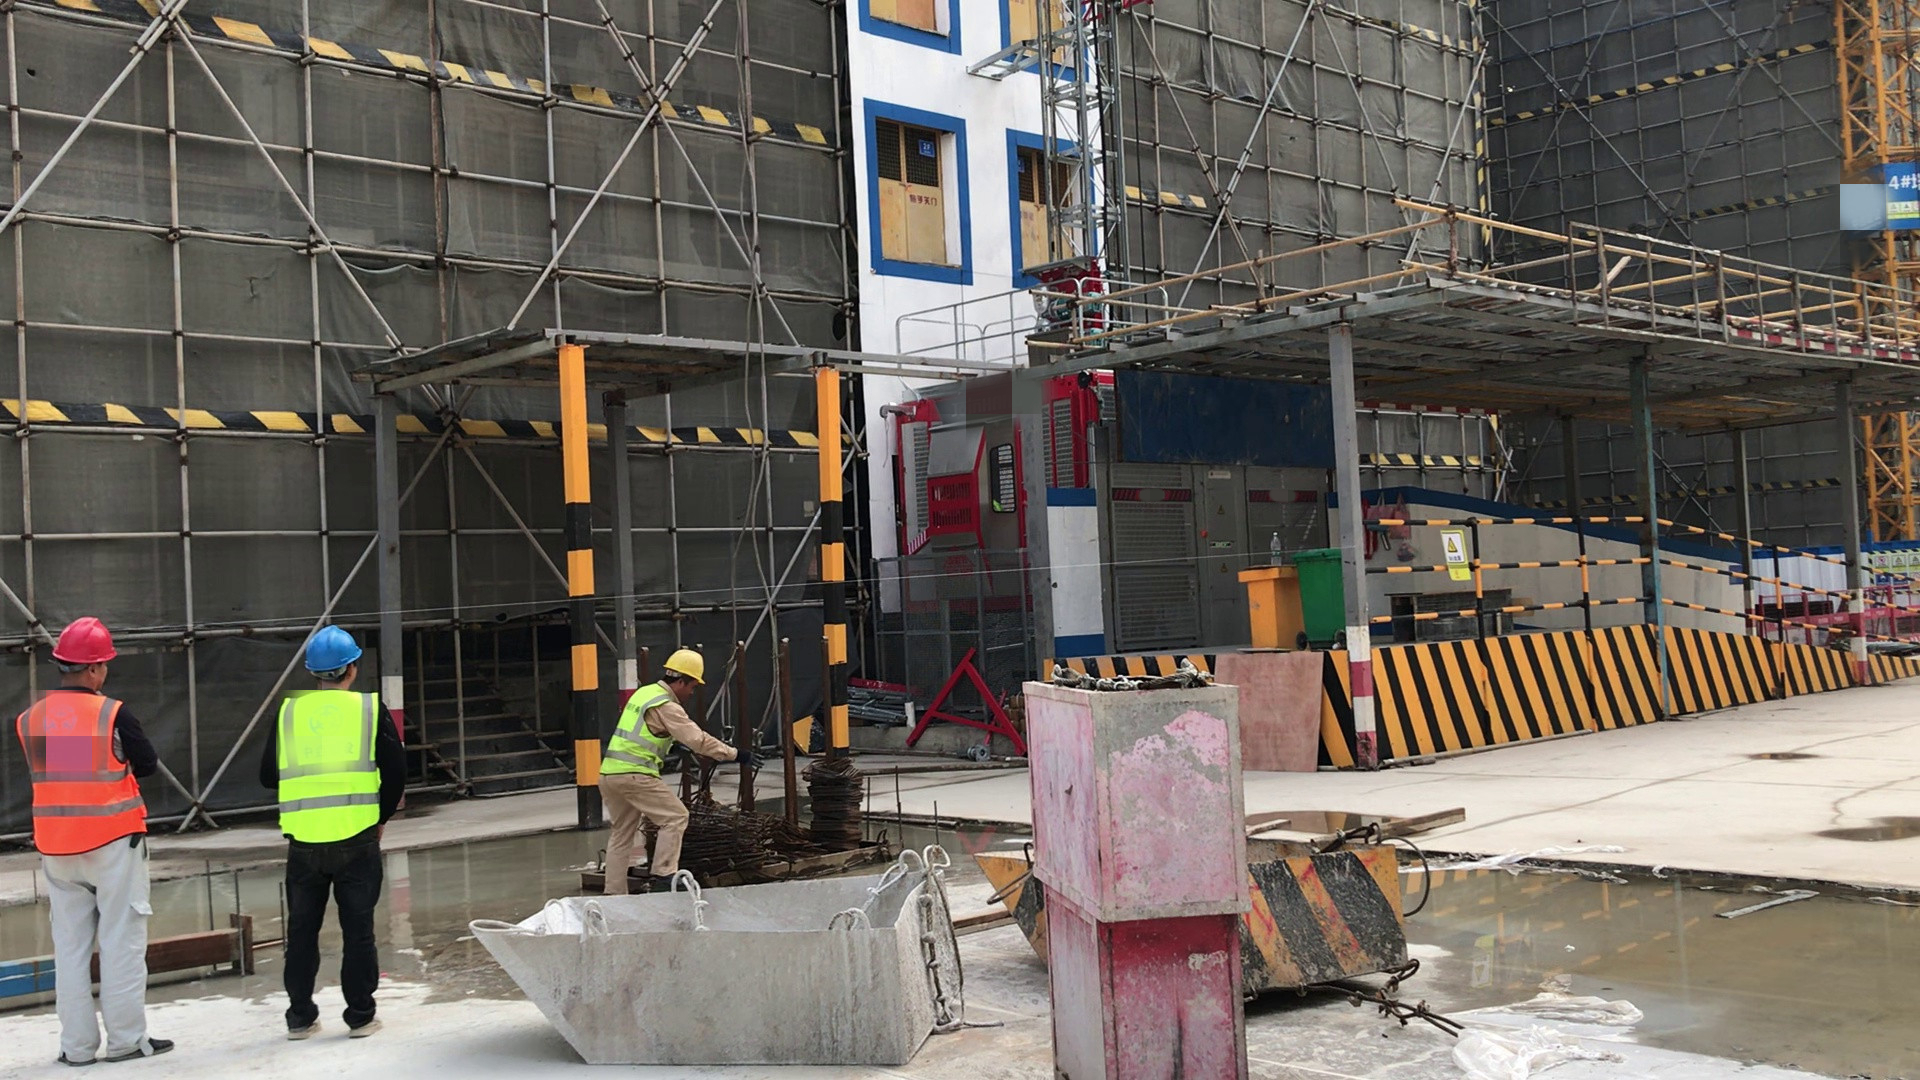fence: (1377, 481, 1920, 685)
helmet: (47, 616, 120, 673), (299, 625, 372, 675), (664, 645, 710, 687)
hopper: (456, 873, 958, 1071), (972, 824, 1434, 996)
person: (17, 613, 183, 1069), (254, 622, 407, 1047), (593, 639, 743, 897)
slogan: (1441, 508, 1495, 638)
vest: (18, 690, 153, 866), (279, 692, 384, 851), (601, 682, 675, 790)
